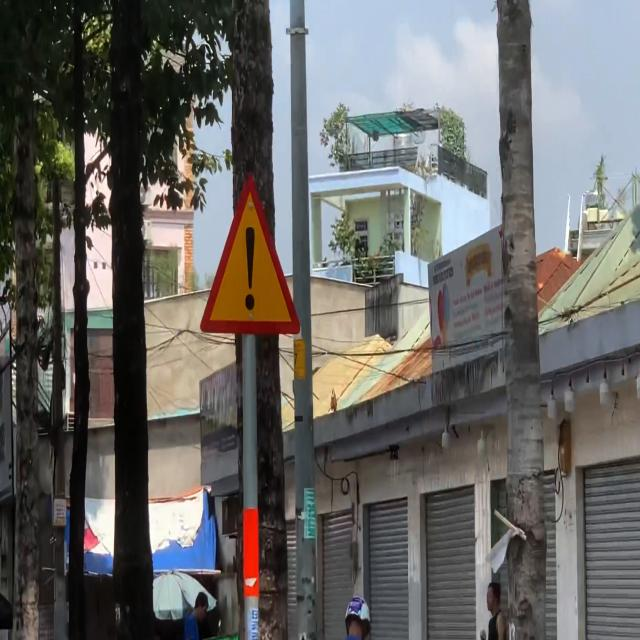Nguy hiem: (198, 164, 302, 339)
